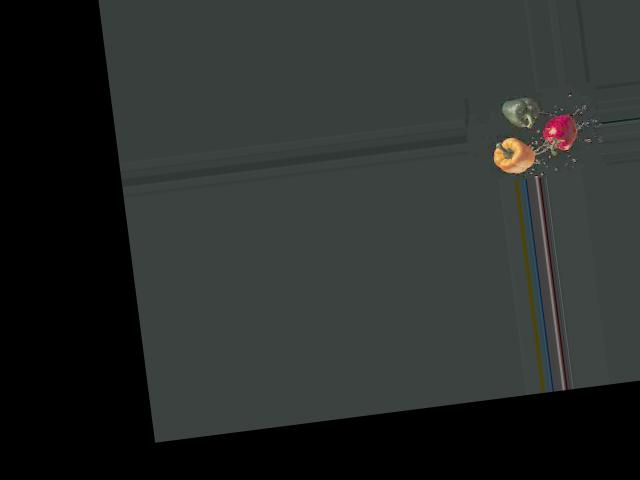bell_pepper: (533, 105, 581, 162)
